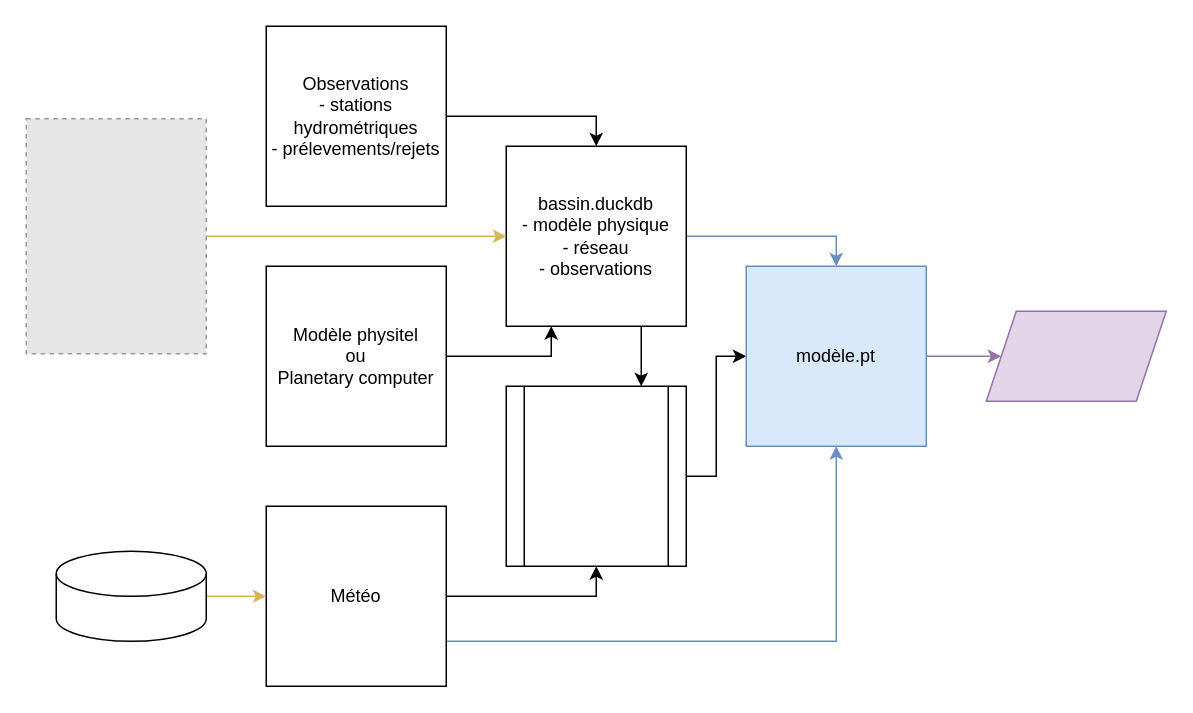
Some shapes in this 1193 by 713 pixel diagram are drawn without their labels. Grey dashed boxes stand in for pictures. The centre of each missing label's shape, as x and y in pixels:
"Entraînement (KGE modifié)" belongs at (595,475).
"krigeage analyse visualisation" belongs at (1075,355).
"quebec.zarr" belongs at (130,595).
